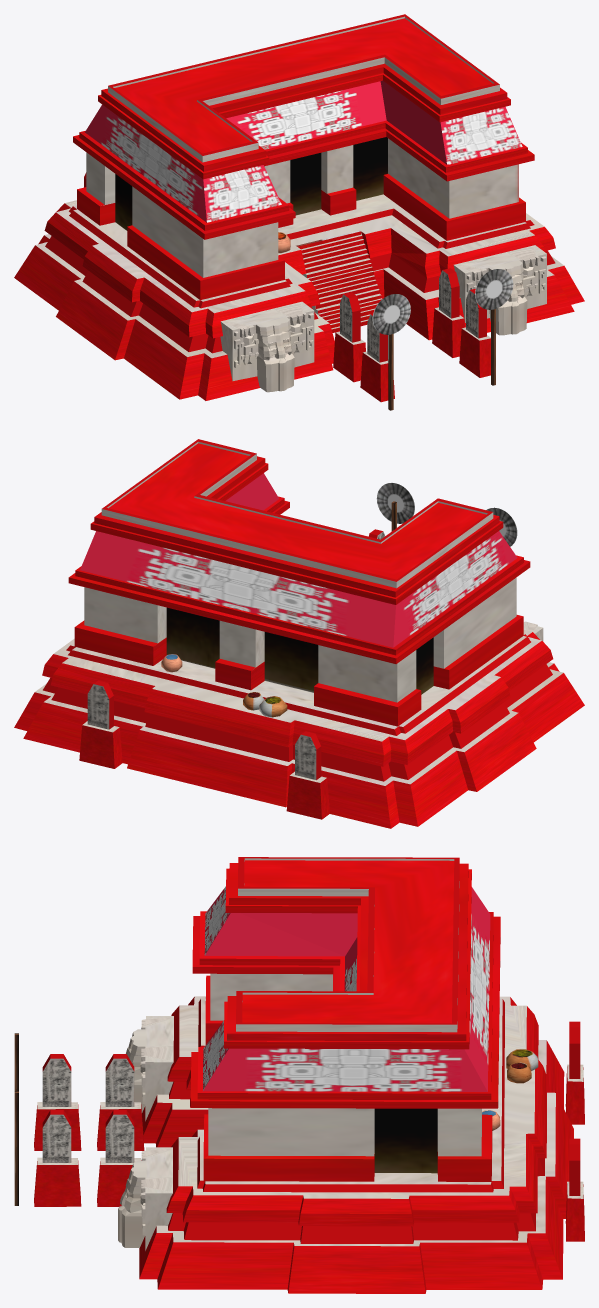
The picture shows the model from 3 angles, top to bottom: view 1: azimuth 30°, elevation 25°; view 2: azimuth 150°, elevation 25°; view 3: azimuth 270°, elevation 25°; orthographic projection. The views are drawn at different scales.
Visible parts, largest first — view 1: cc_2; view 2: cc_2; view 3: cc_2.
Boxes of the visible parts, <box> form: cc_2: <box>14,14,584,410</box>; cc_2: <box>14,439,584,828</box>; cc_2: <box>14,857,584,1293</box>.
Bounding box in the file's own units: 32.69 × 33.24 × 15.29.
